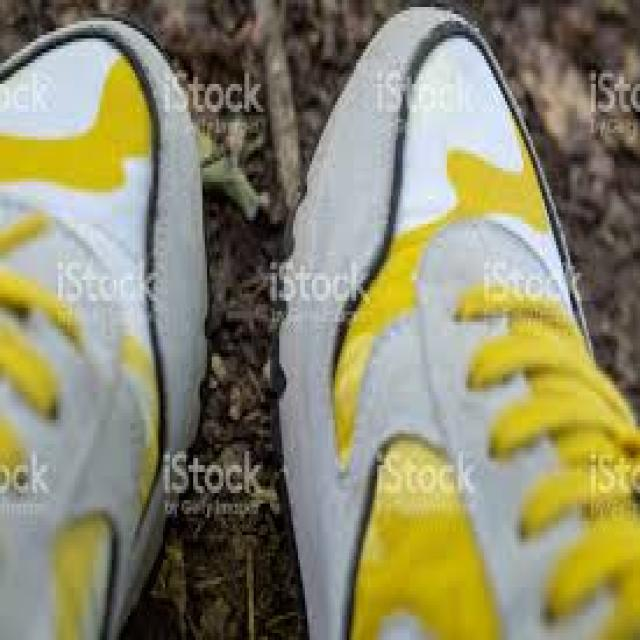shoe: (252, 7, 622, 640), (0, 19, 220, 640)
